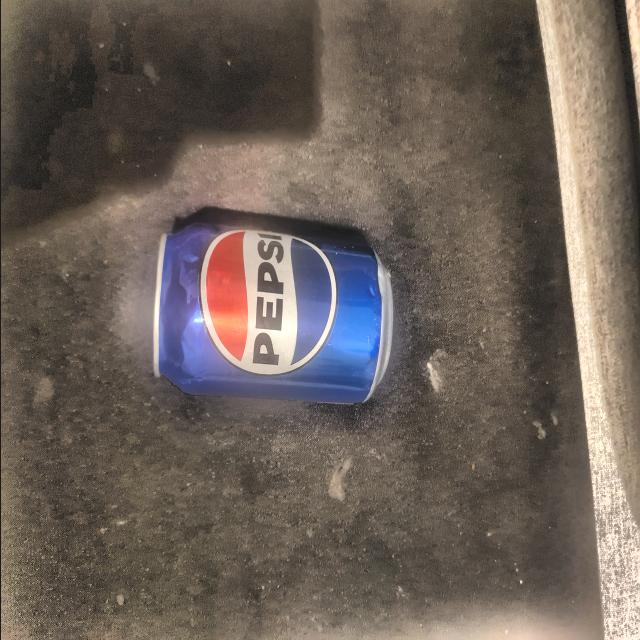pepsi-can: (148, 230, 391, 402)
